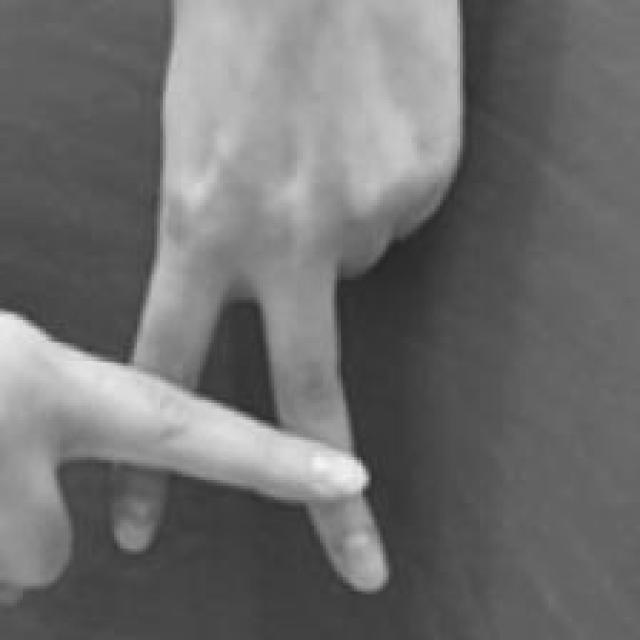A: (0, 91, 461, 598)
